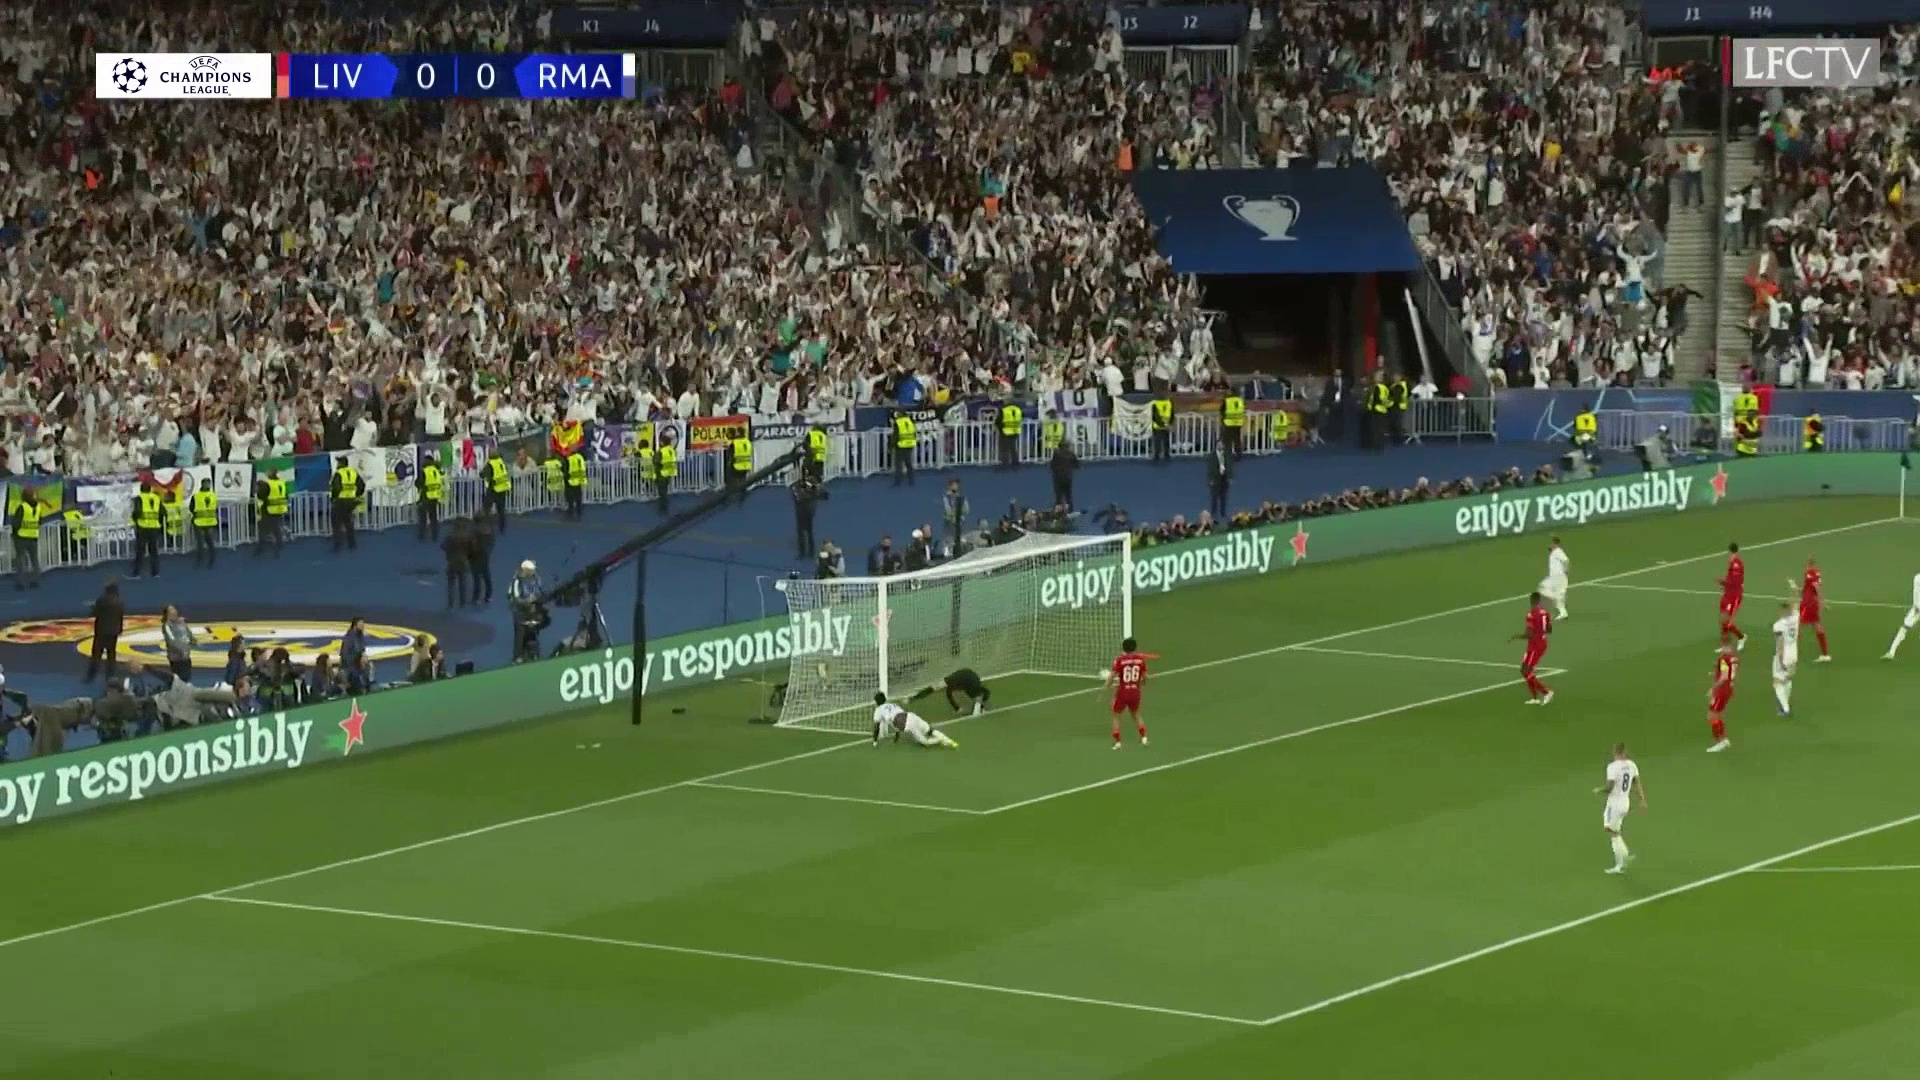ball: (1092, 661, 1114, 689)
player 1: (1898, 552, 1903, 672)
player 12: (952, 655, 998, 715)
player 13: (1707, 534, 1750, 612)
player 14: (1101, 627, 1157, 758)
player 15: (1810, 547, 1840, 657)
player 16: (1510, 586, 1565, 709)
player 17: (1704, 640, 1750, 758)
player 2: (1539, 526, 1584, 619)
player 3: (856, 685, 948, 750)
player 4: (1771, 578, 1801, 715)
player 5: (1595, 731, 1648, 883)
